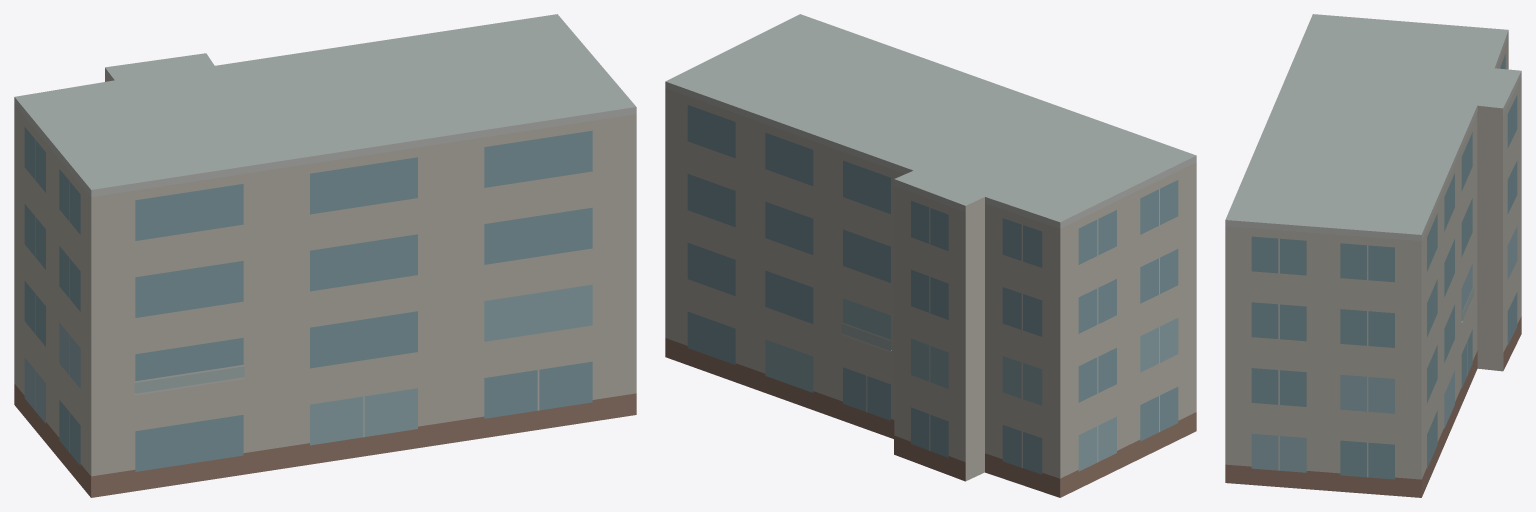
File: survey-upis-32894240.glb
The picture shows the model from 3 angles, left to right: view 1: azimuth 30°, elevation 25°; view 2: azimuth 150°, elevation 25°; view 3: azimuth 270°, elevation 25°; orthographic projection. The views are drawn at different scales.
Parts seen in each view (by area): view 1: survey-upis-32894240.tmp; view 2: survey-upis-32894240.tmp; view 3: survey-upis-32894240.tmp.
Part boxes in pixels (bbox=[...]): survey-upis-32894240.tmp: bbox=[14, 14, 636, 497]; survey-upis-32894240.tmp: bbox=[665, 14, 1196, 497]; survey-upis-32894240.tmp: bbox=[1225, 14, 1521, 497].
Bounding box in the file's own units: 18.74 × 10.4 × 10.63.
